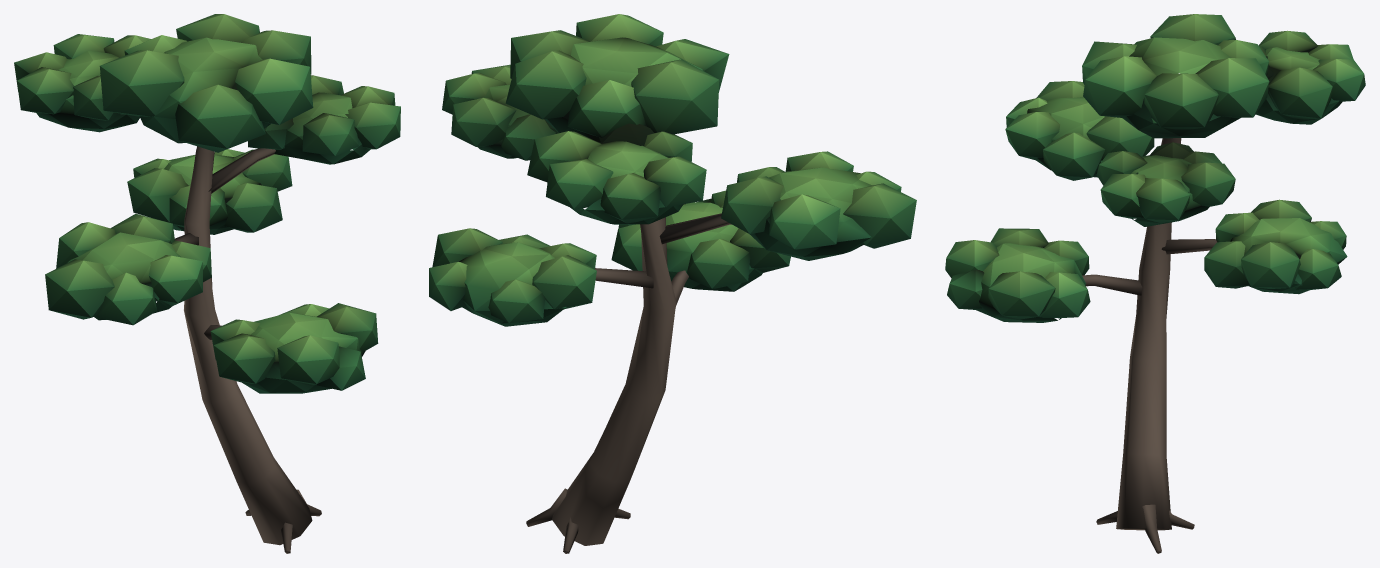
File: tree-pine.glb
3 renders of one model, left to right at view 1: azimuth 30°, elevation 25°; view 2: azimuth 150°, elevation 25°; view 3: azimuth 270°, elevation 25°, orthographic. The views are drawn at different scales.
Parts seen in each view (by area): view 1: 1_leaves.008, 0_trunk.008; view 2: 1_leaves.008, 0_trunk.008; view 3: 1_leaves.008, 0_trunk.008.
Part boxes in pixels (left/top/right/bottom): 1_leaves.008: left=14, top=14, right=400, bottom=393; 0_trunk.008: left=174, top=146, right=321, bottom=553; 1_leaves.008: left=429, top=14, right=916, bottom=326; 0_trunk.008: left=526, top=213, right=731, bottom=553; 1_leaves.008: left=945, top=14, right=1365, bottom=322; 0_trunk.008: left=1082, top=138, right=1216, bottom=553.
Bounding box in the file's own units: 5.59 × 6.74 × 5.42.
